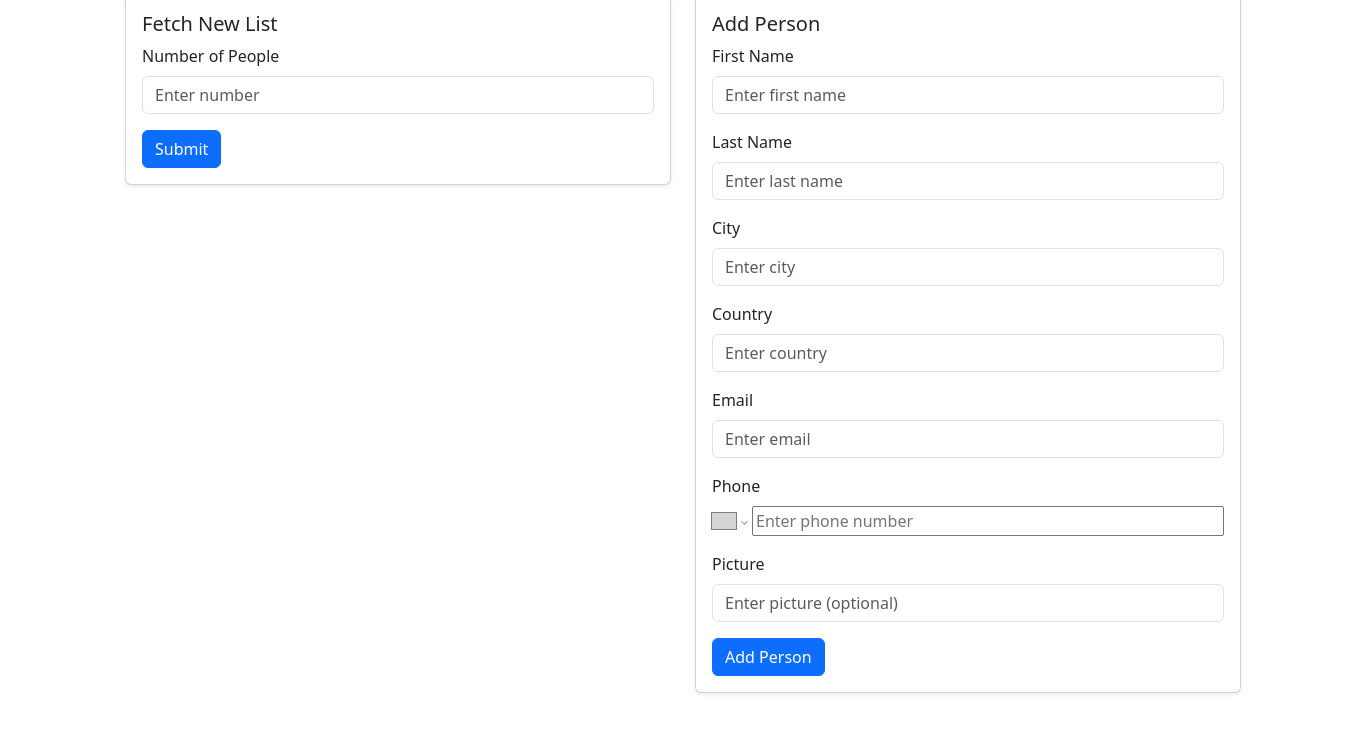
Scenario: Settings › fetches a new list of people when form is submitted
This screenshot has width=1366, height=747.
Step 1. Type "2" into the number field labelled "Number of People" → {"x": 398, "y": 95}, box x1=142 y1=76 x2=654 y2=114
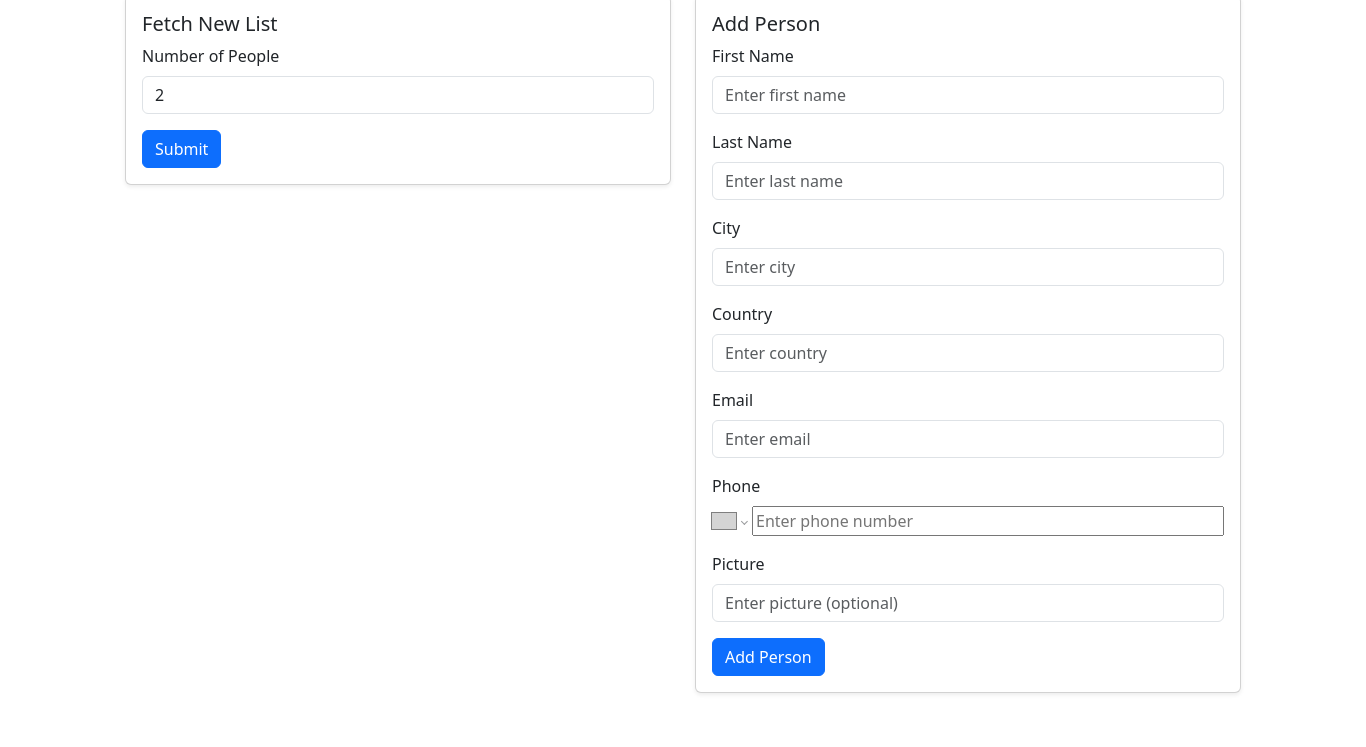
Step 2. Click the button "Submit" → {"x": 182, "y": 149}, box x1=142 y1=130 x2=221 y2=168
(page scrolled)
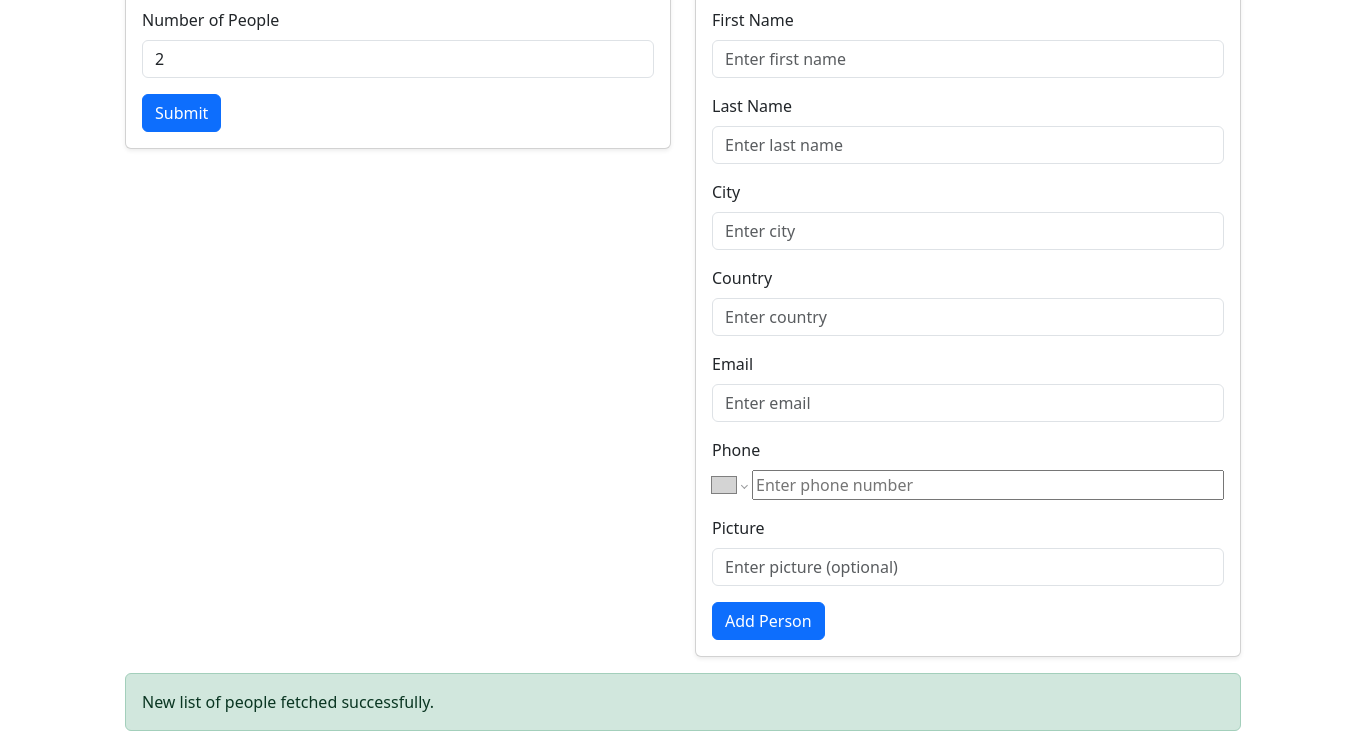
Result: the text "New list of people fetched successfully." is shown at x1=125 y1=673 x2=1241 y2=731
